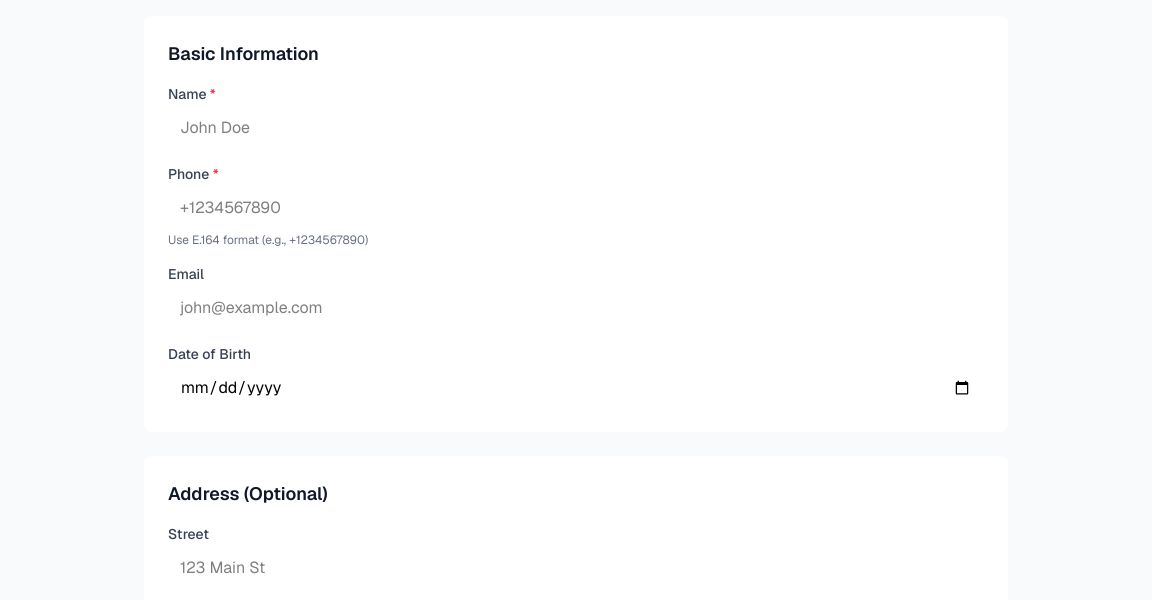
Scenario: NewCustomerPage › Form Validation › should validate address fields when provided
Type "a" into the field labelled "Street". click: {"x": 576, "y": 568}
box: left=168, top=548, right=984, bottom=588
(page scrolled)
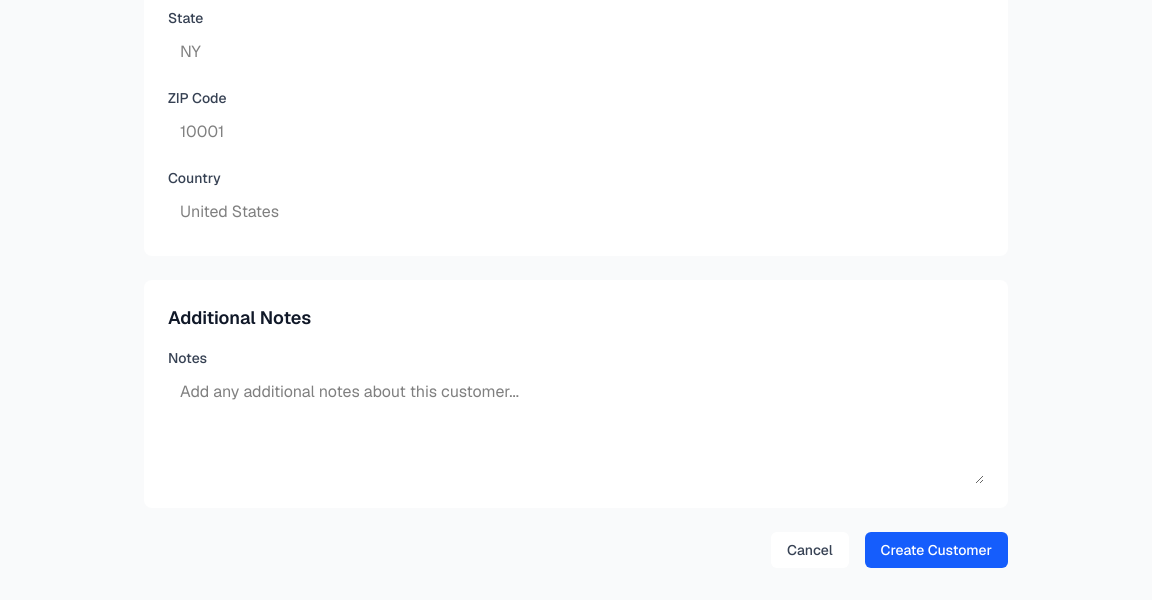
Click the button "Create Customer". click: {"x": 936, "y": 550}
box: left=865, top=532, right=1008, bottom=568
(page scrolled)
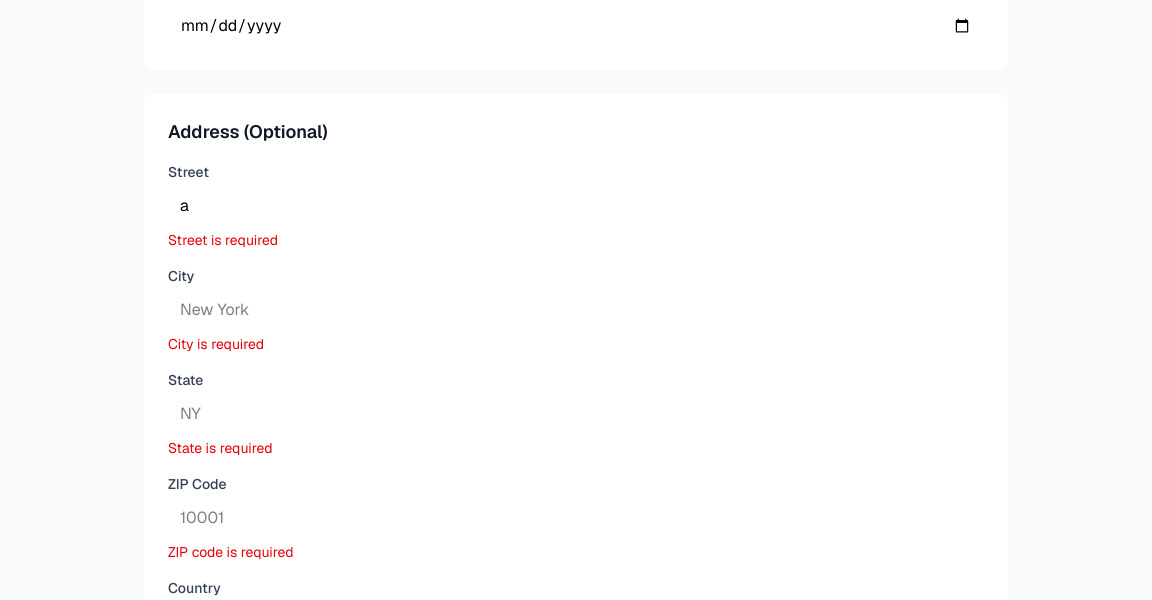
Now the text "Street is required" is shown, box left=168, top=231, right=278, bottom=249
